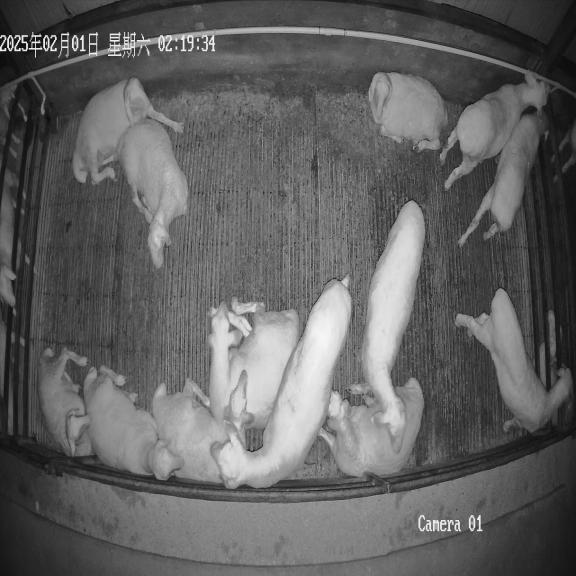lying: (72, 77, 183, 184), (209, 298, 300, 428), (84, 367, 182, 479), (152, 374, 251, 483), (117, 118, 188, 268), (324, 378, 424, 477), (368, 72, 449, 151), (38, 348, 92, 456)
stand: (215, 276, 351, 488), (348, 200, 425, 436), (455, 288, 572, 432), (440, 73, 549, 190), (459, 113, 548, 246)
